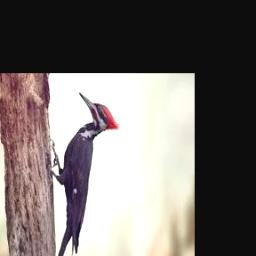Woodpecker: (50, 91, 119, 256)
